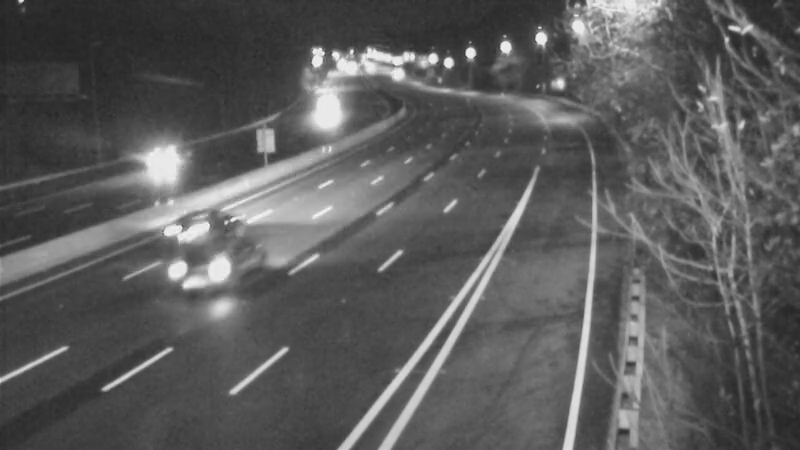vehicle: (160, 181, 240, 261), (162, 234, 242, 314), (129, 123, 209, 203), (370, 52, 420, 102), (302, 90, 352, 140)
